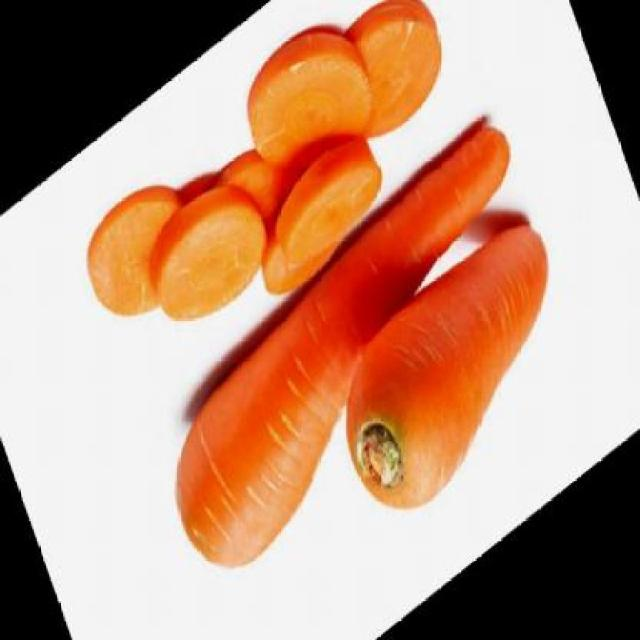carrot: (136, 112, 567, 596), (317, 199, 588, 538)
